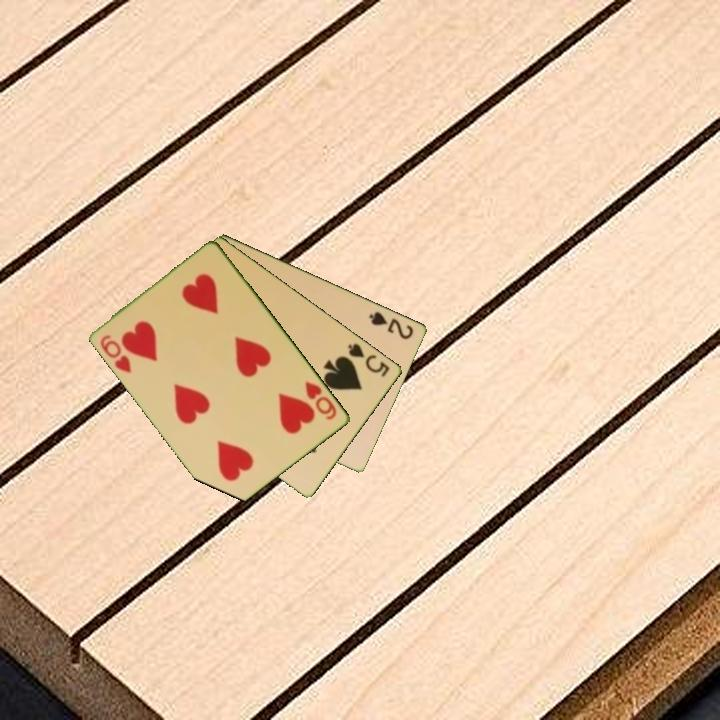2s: (366, 308, 417, 342)
5s: (345, 339, 393, 380)
6h: (302, 378, 340, 423), (97, 331, 134, 376)
